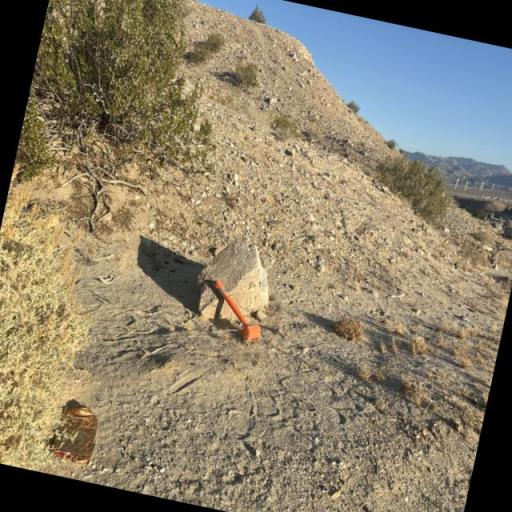mallet: (198, 274, 274, 347)
